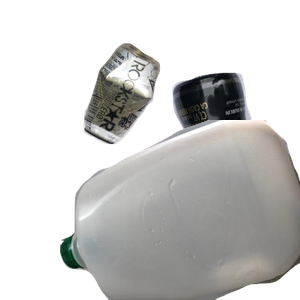glass: (106, 70, 300, 250)
metal: (81, 41, 234, 178)
plastic: (60, 120, 300, 300)
trash: (88, 177, 251, 300)
